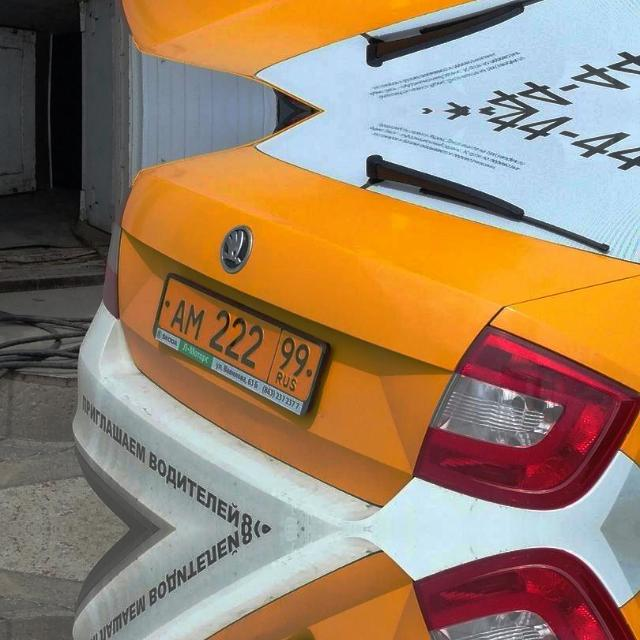taxi: (140, 269, 336, 419)
